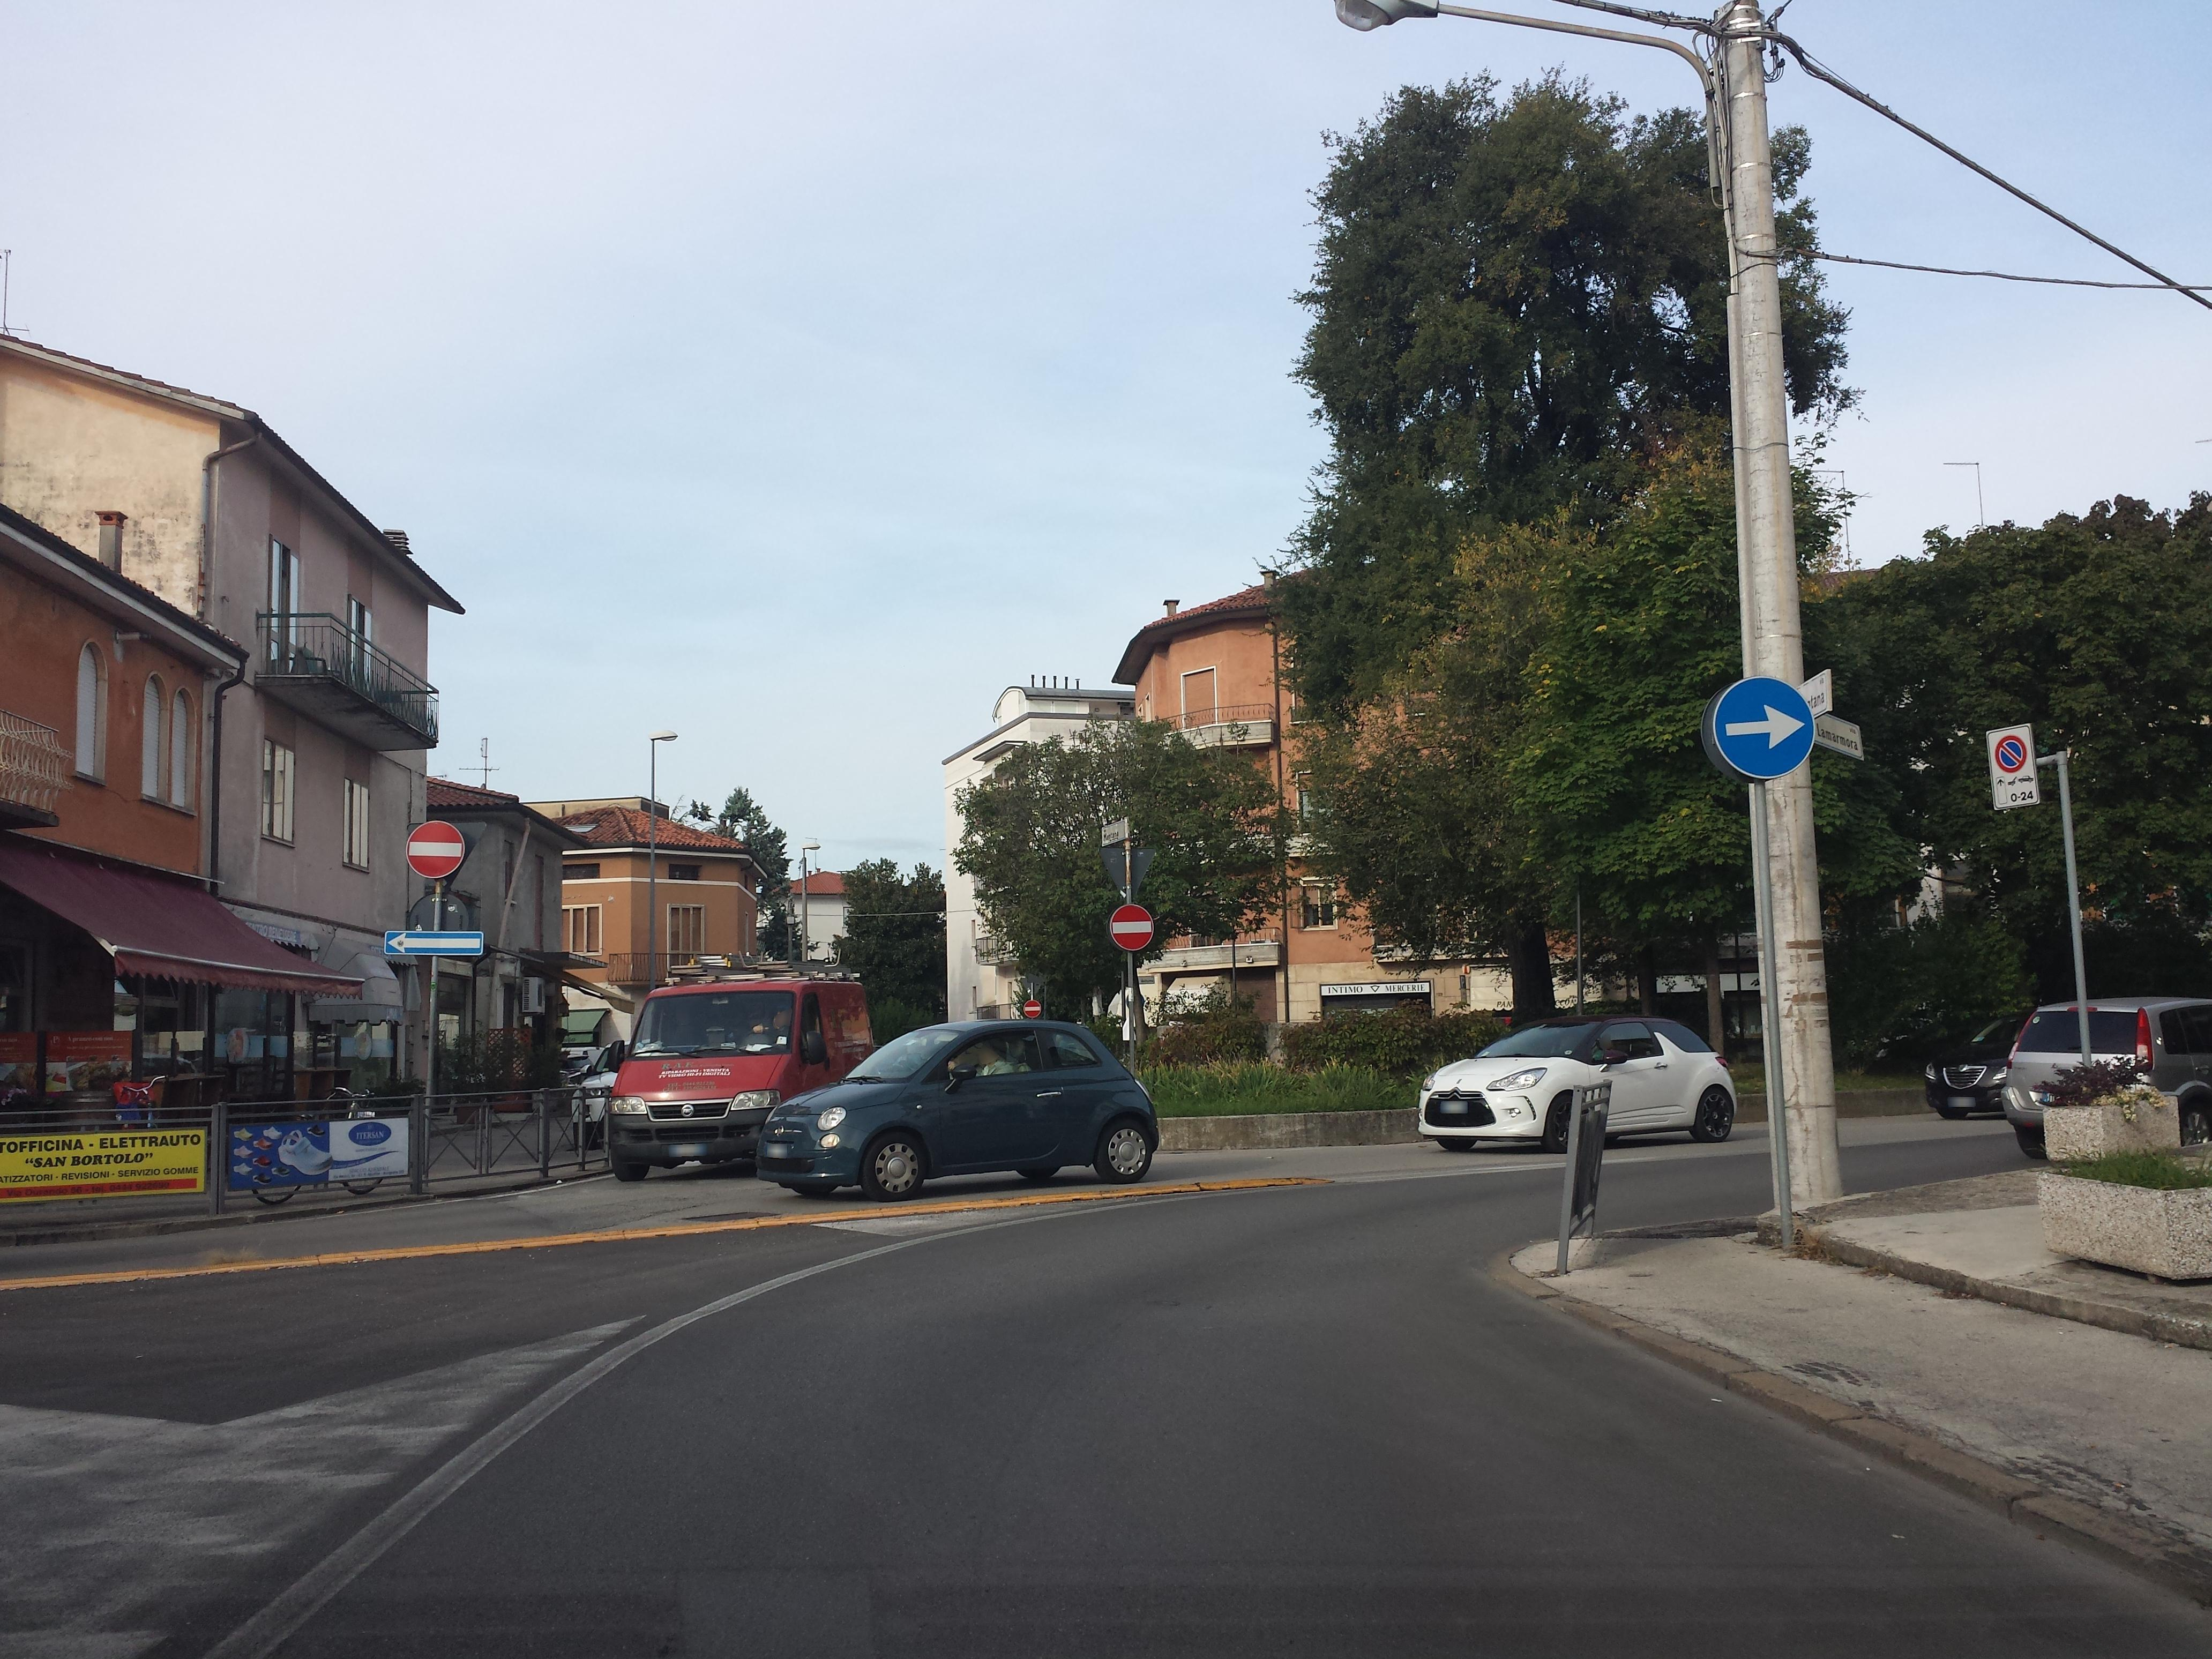vinyl banner: (214, 1105, 423, 1188), (3, 1122, 219, 1194)
